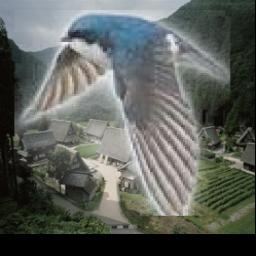Swallow: (14, 11, 230, 217)
